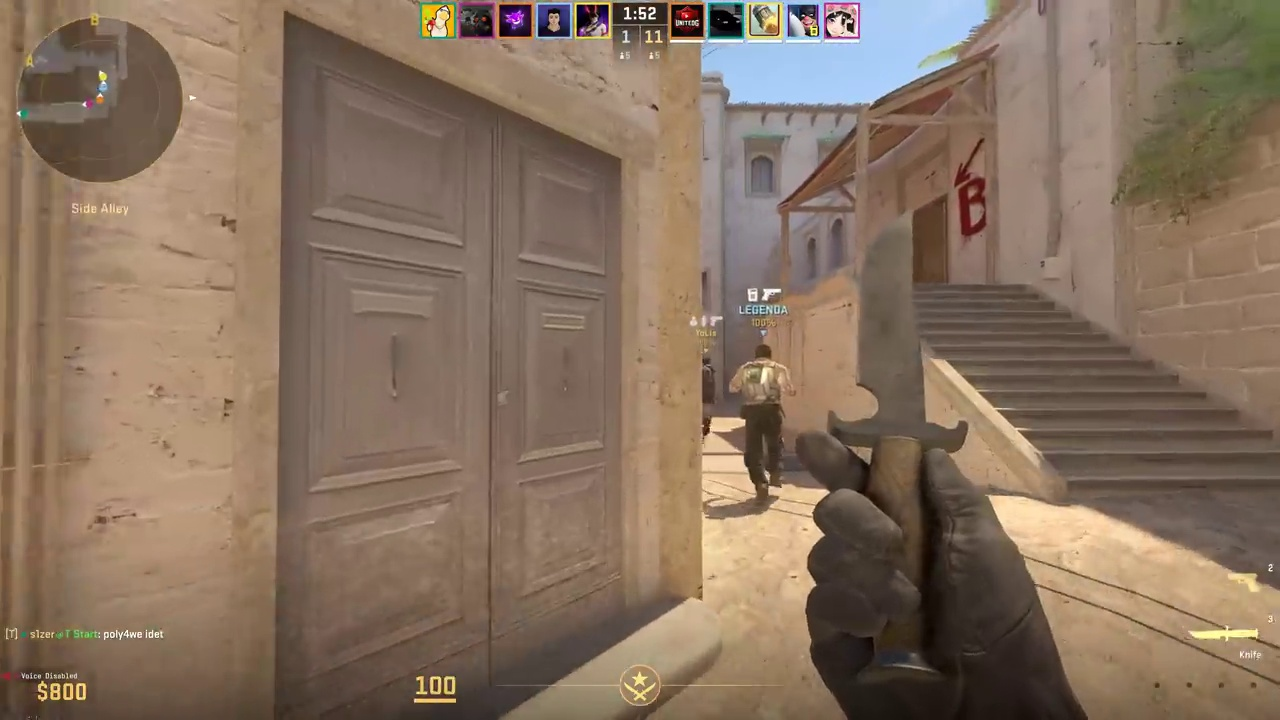Terrorist: (735, 345, 790, 503), (702, 358, 715, 442)
